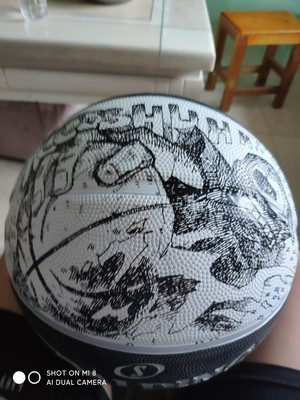ball: (4, 93, 300, 391)
